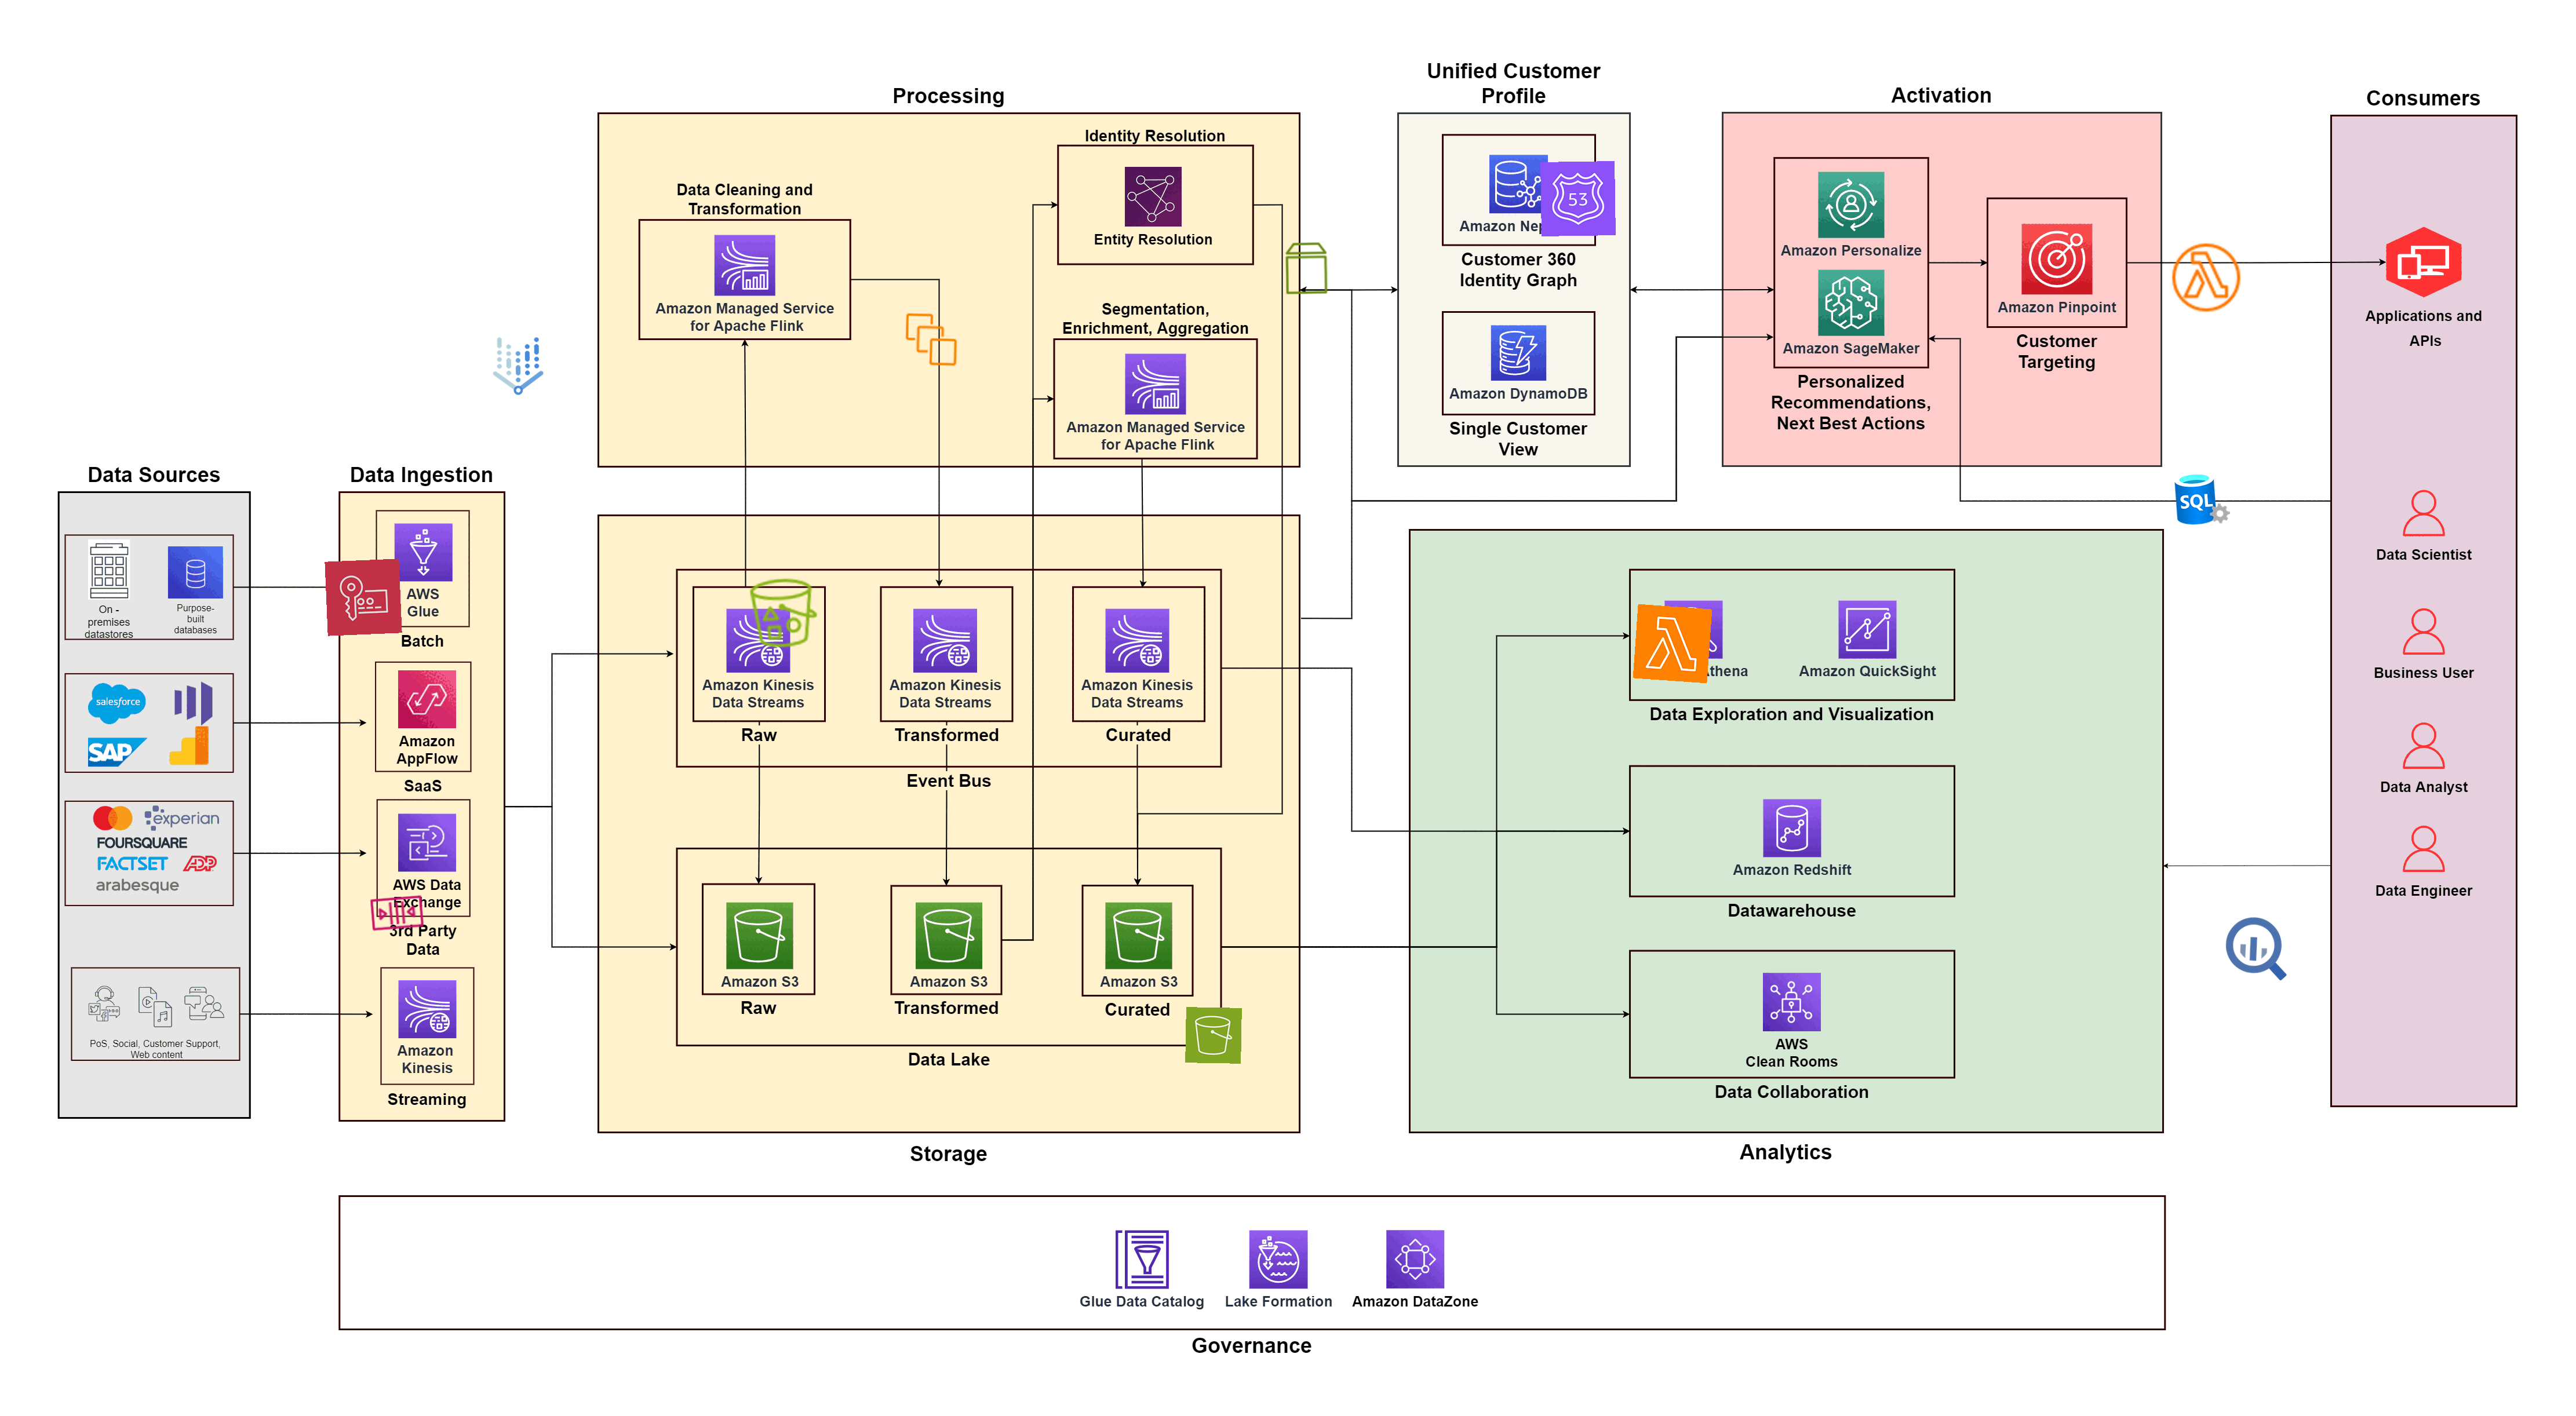aws_amazon_route_53: (1540, 160, 1615, 237)
aws_amazon_simple_storage_service: (1186, 1006, 1242, 1064)
aws_ec2_instances: (902, 310, 961, 368)
aws_elastic_block_store_volume: (1278, 241, 1336, 296)
aws_key_management_service: (324, 558, 403, 637)
aws_lambda: (1632, 603, 1713, 684)
aws_lambda_lambda_function: (2168, 241, 2245, 316)
aws_simple_queue_service_queue: (366, 882, 427, 943)
aws_simple_storage_service_bucket_with_objects: (745, 574, 823, 652)
azure_sql_server: (2171, 467, 2232, 528)
gcp_bigquery: (2218, 910, 2295, 987)
gcp_vertex_ai: (480, 328, 556, 405)
